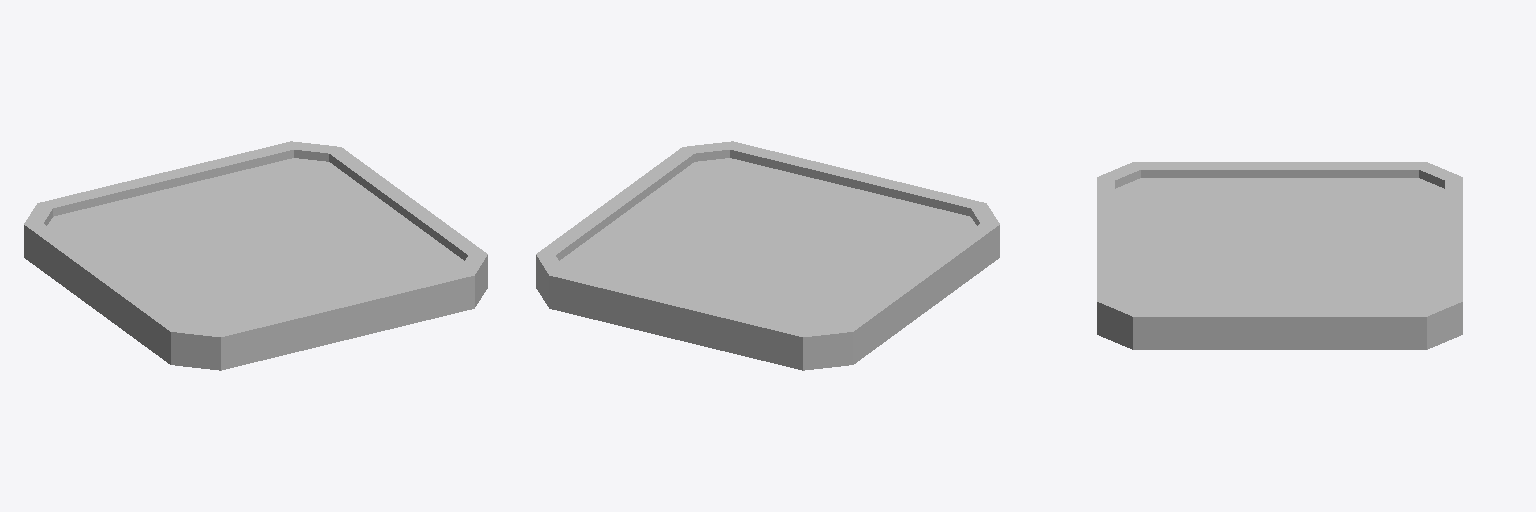
File: platform.obj
The picture shows the model from 3 angles: view 1: azimuth 30°, elevation 25°; view 2: azimuth 150°, elevation 25°; view 3: azimuth 270°, elevation 25°; orthographic projection.
Visible parts, largest first — view 1: Cube.002; view 2: Cube.002; view 3: Cube.002.
Part boxes in pixels (x1,y1,x2,y2): Cube.002: (24, 141, 487, 370); Cube.002: (536, 141, 999, 370); Cube.002: (1097, 162, 1462, 349).
Bounding box in the file's own units: 2 × 0.2 × 2.